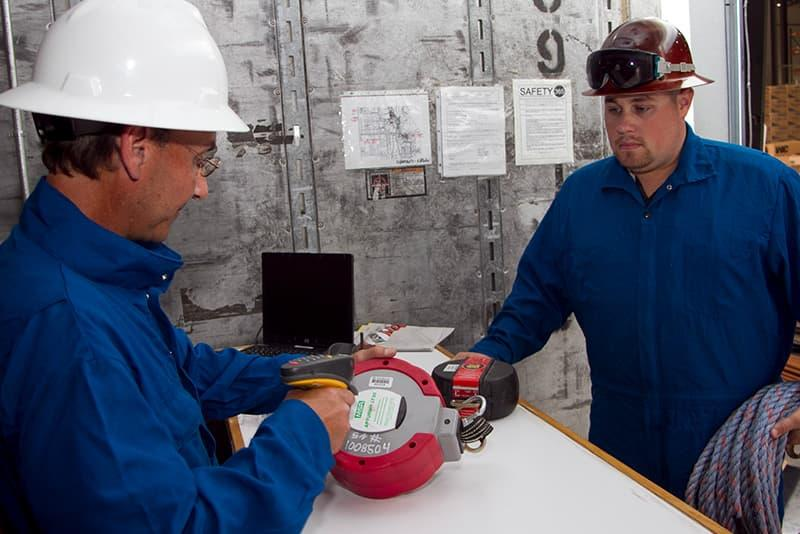helmet: (1, 1, 255, 135), (586, 18, 705, 100)
